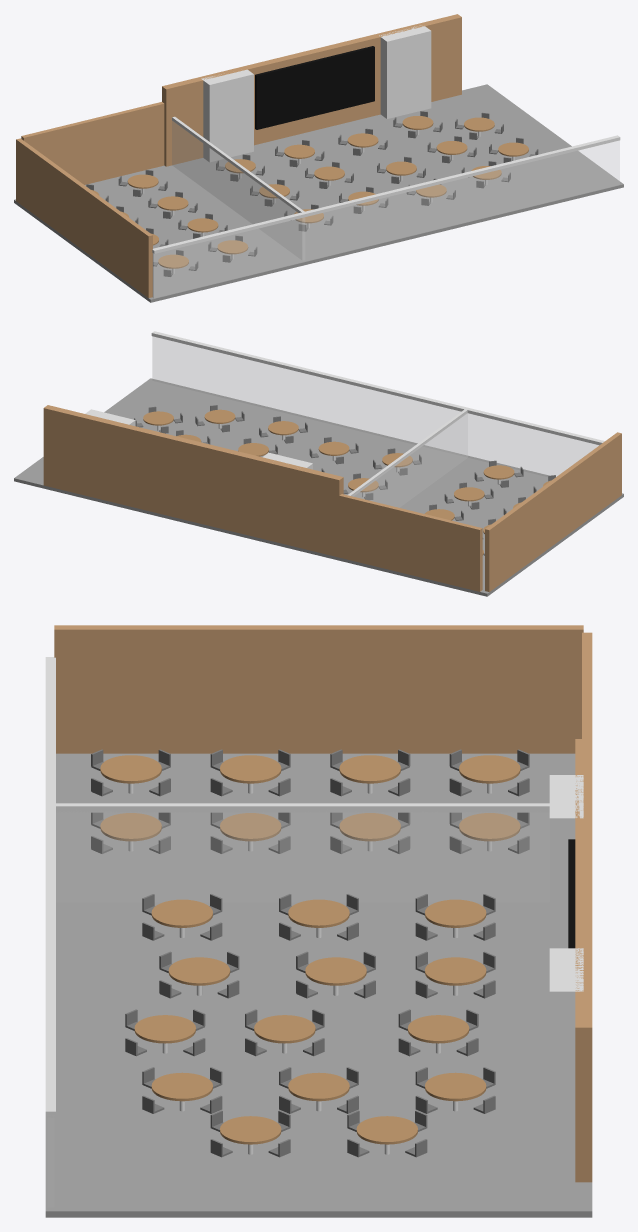
File: meet3.glb
3 views of the same model, one above another, from view 1: azimuth 30°, elevation 25°; view 2: azimuth 150°, elevation 25°; view 3: azimuth 270°, elevation 25° (orthographic). The views are drawn at different scales.
Visible parts, largest first — view 1: Exhibition_Hall; view 2: Exhibition_Hall; view 3: Exhibition_Hall.
Part boxes in pixels (x1,y1,x2,y2): Exhibition_Hall: [14, 14, 623, 302]; Exhibition_Hall: [14, 331, 623, 596]; Exhibition_Hall: [45, 625, 592, 1217].
Bounding box in the file's own units: 32 × 5.2 × 16.
